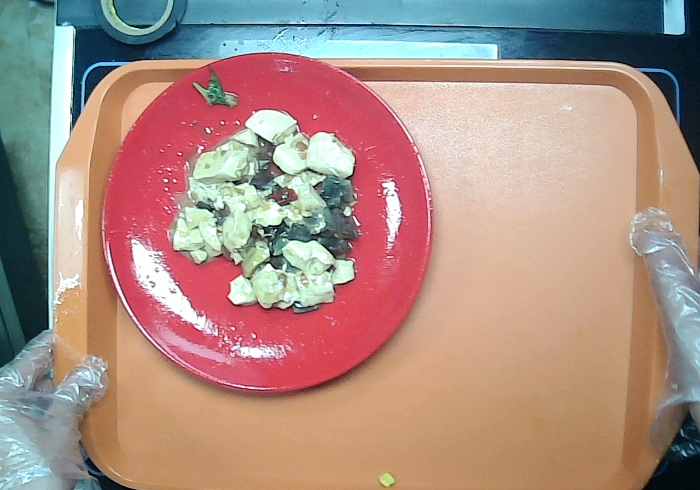HZYJPL-Hong_Se_Yuan_Pan: (99, 50, 432, 396)
